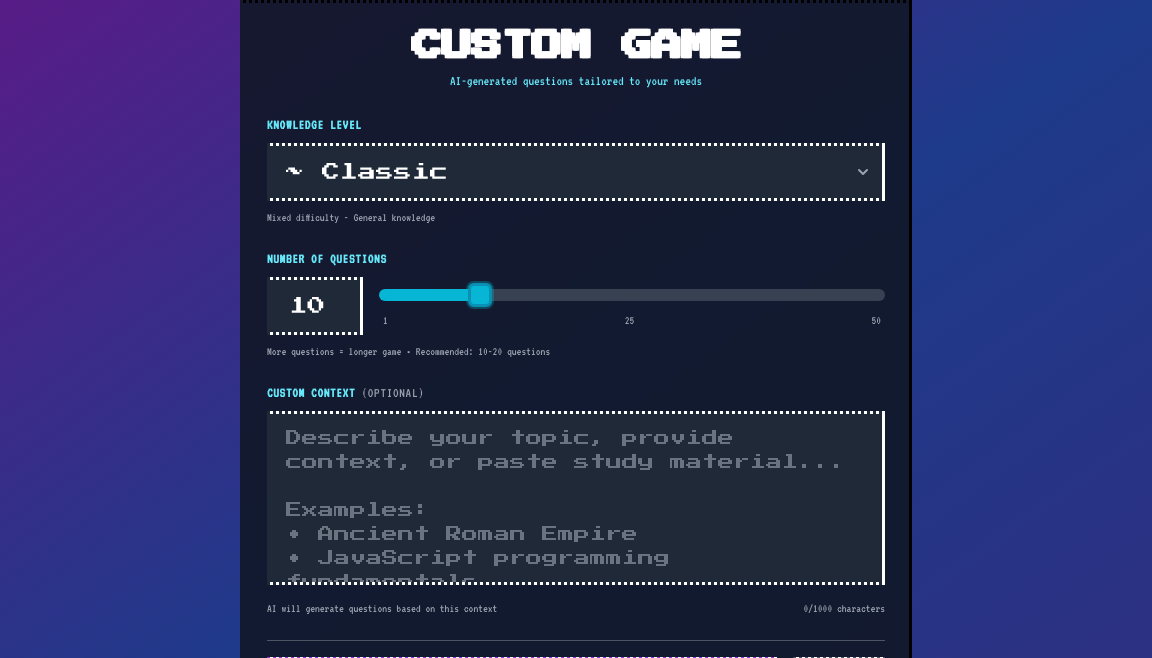
Test: CustomGameConfigurator › context textarea › should show character count
This screenshot has width=1152, height=658.
Type "Test" into the text box labelled "Custom Context (Optional)" at (576,498), box [267, 411, 885, 585]
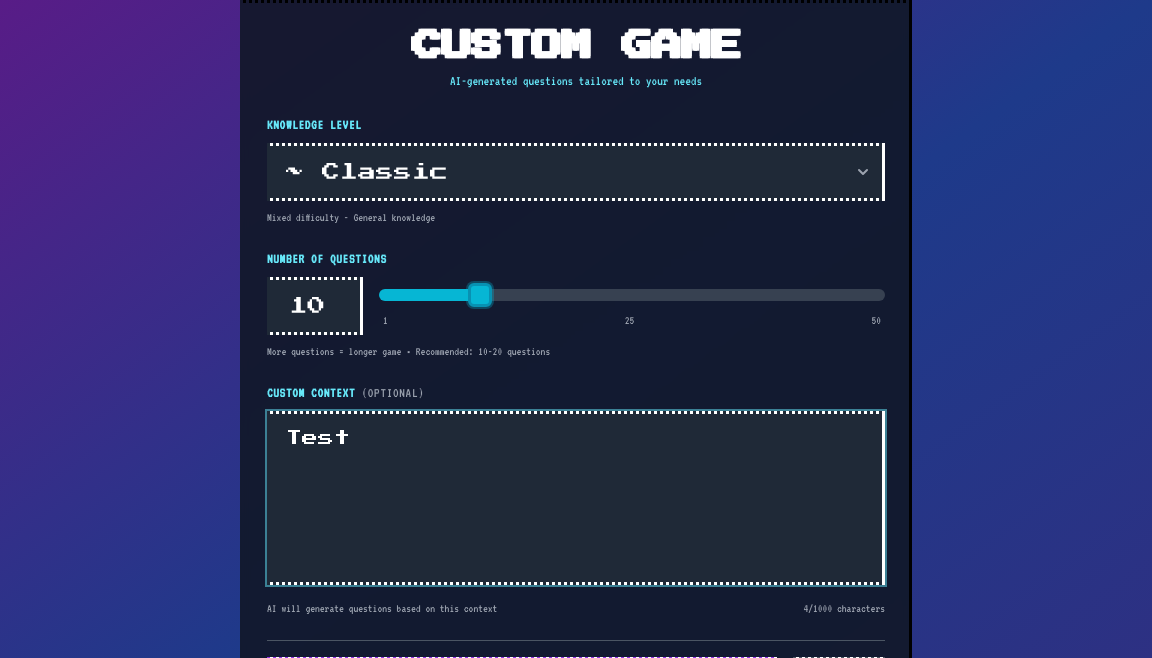
Result: the text "4/1000 characters" is shown at [803, 600, 885, 616]
